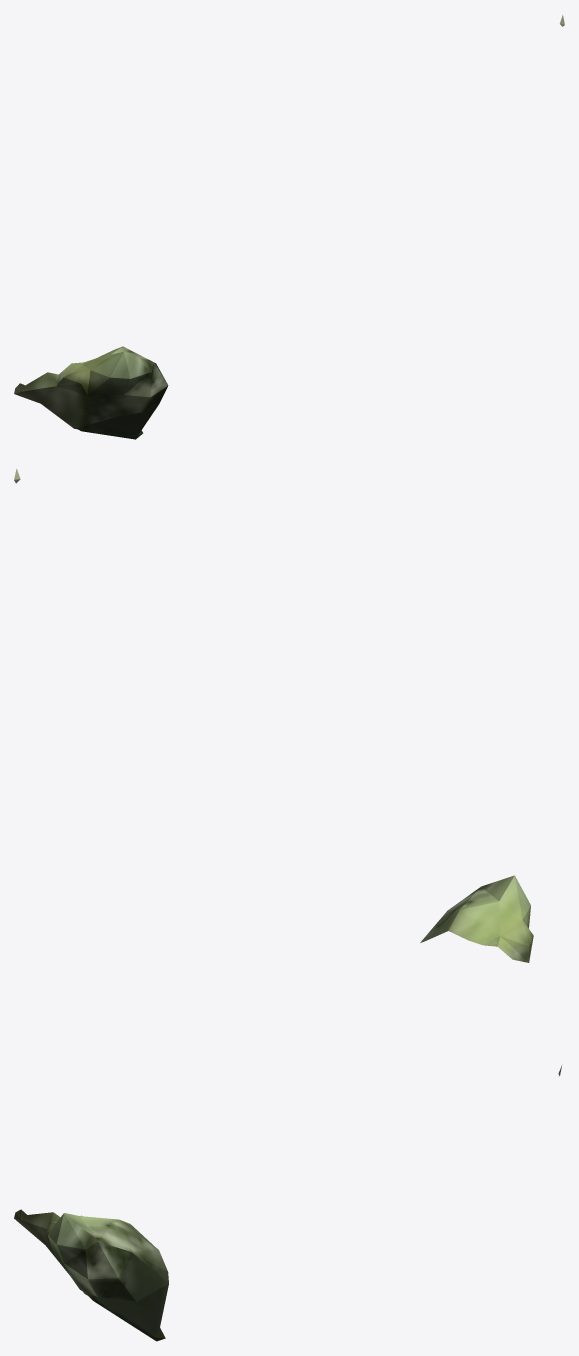
The picture shows the model from 3 angles, top to bottom: view 1: azimuth 30°, elevation 25°; view 2: azimuth 150°, elevation 25°; view 3: azimuth 330°, elevation 25°; orthographic projection. The views are drawn at different scales.
Bounding box in the file's own units: 3.41 × 2.31 × 0.495.
1 material, 1 textured.
